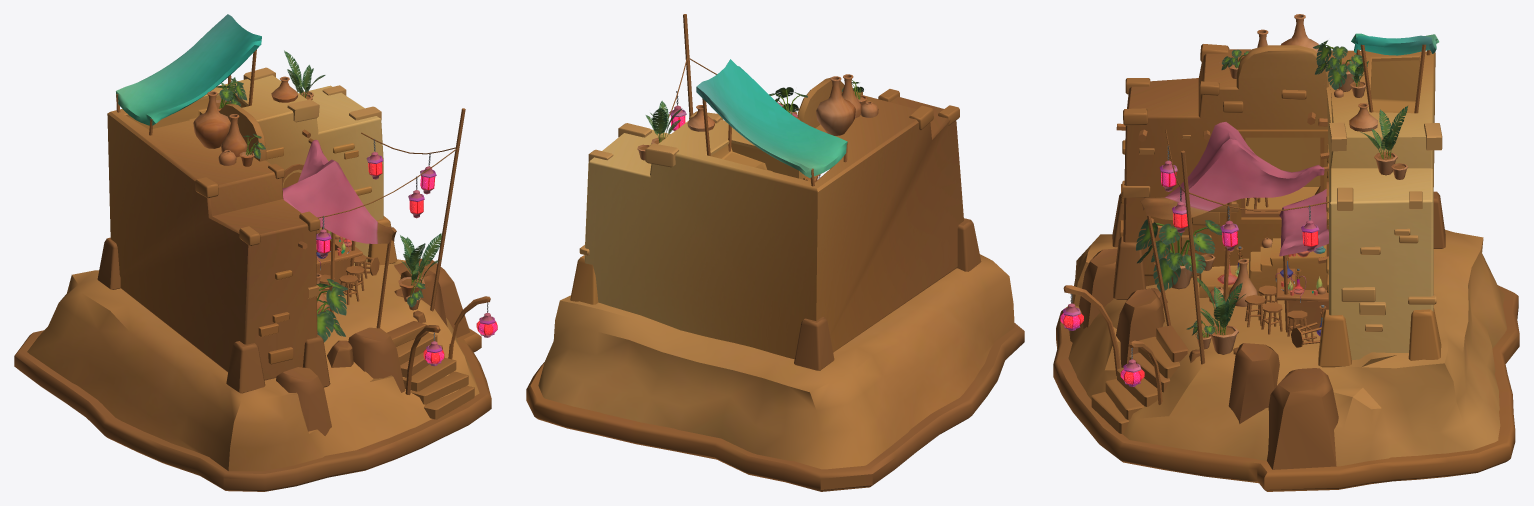
Rendered from stall.glb.
3 renders of one model, left to right at view 1: azimuth 30°, elevation 25°; view 2: azimuth 150°, elevation 25°; view 3: azimuth 270°, elevation 25°, orthographic. The views are drawn at different scales.
Parts seen in each view (by area): view 1: G_main; view 2: G_main; view 3: G_main.
Boxes of the visible parts, left/top/right/bottom form: G_main: left=14, top=14, right=497, bottom=491; G_main: left=526, top=14, right=1024, bottom=491; G_main: left=1053, top=14, right=1519, bottom=491.
Size of the model in its own units: 0.0836 by 0.0701 by 0.0817.
3 materials, 2 textured.
